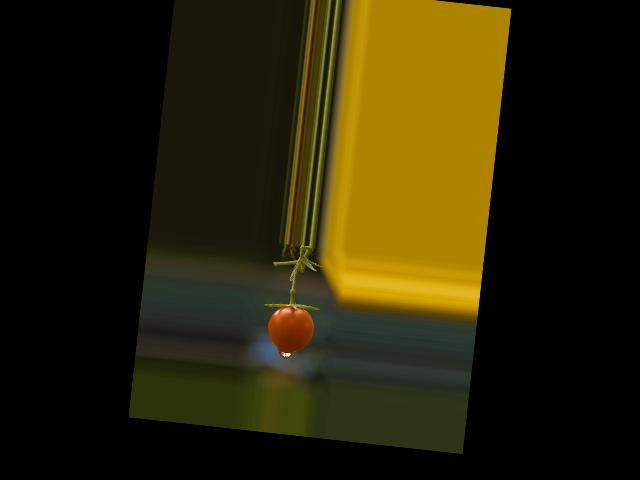tomato: (265, 303, 315, 353)
